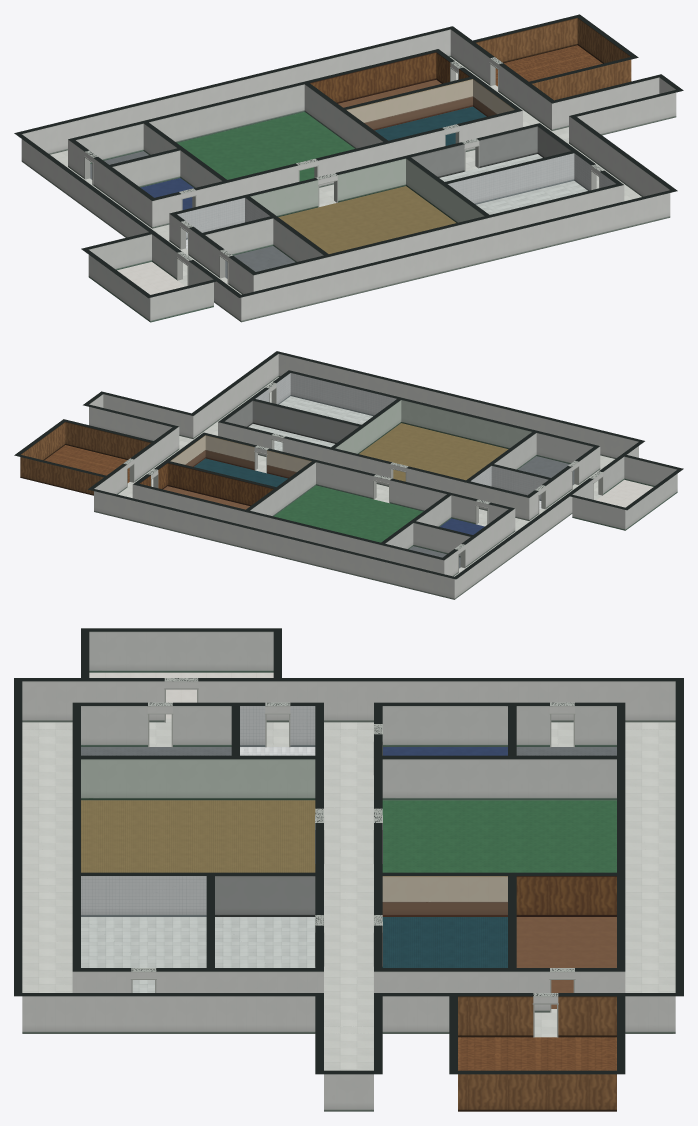
File: severed.gltf
The picture shows the model from 3 angles, top to bottom: view 1: azimuth 30°, elevation 25°; view 2: azimuth 150°, elevation 25°; view 3: azimuth 270°, elevation 25°; orthographic projection. The views are drawn at different scales.
Parts seen in each view (by area): view 1: WALLS, FLOOR, WALLTOP, HEADERS; view 2: WALLS, FLOOR, WALLTOP, HEADERS; view 3: WALLS, FLOOR, WALLTOP, HEADERS.
Boxes of the visible parts, x1,y1,x2,y2 form: WALLS: [21, 17, 676, 322]; FLOOR: [50, 45, 641, 294]; WALLTOP: [14, 14, 683, 298]; HEADERS: [84, 57, 604, 285]; WALLS: [20, 354, 677, 599]; FLOOR: [44, 377, 653, 576]; WALLTOP: [14, 351, 683, 579]; HEADERS: [123, 382, 603, 572]; WALLS: [22, 631, 675, 1111]; FLOOR: [22, 672, 675, 1070]; WALLTOP: [14, 628, 683, 1074]; HEADERS: [130, 678, 575, 1037].
Size of the model in its own units: 63 by 2.7 by 40.
Materials: 21 (19 with a texture image).
